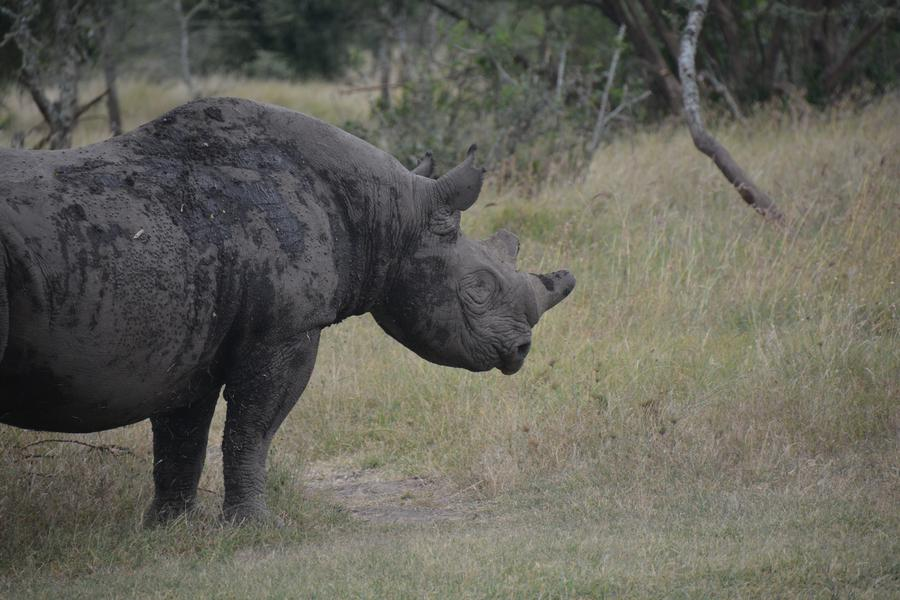rhino: (13, 78, 540, 512)
